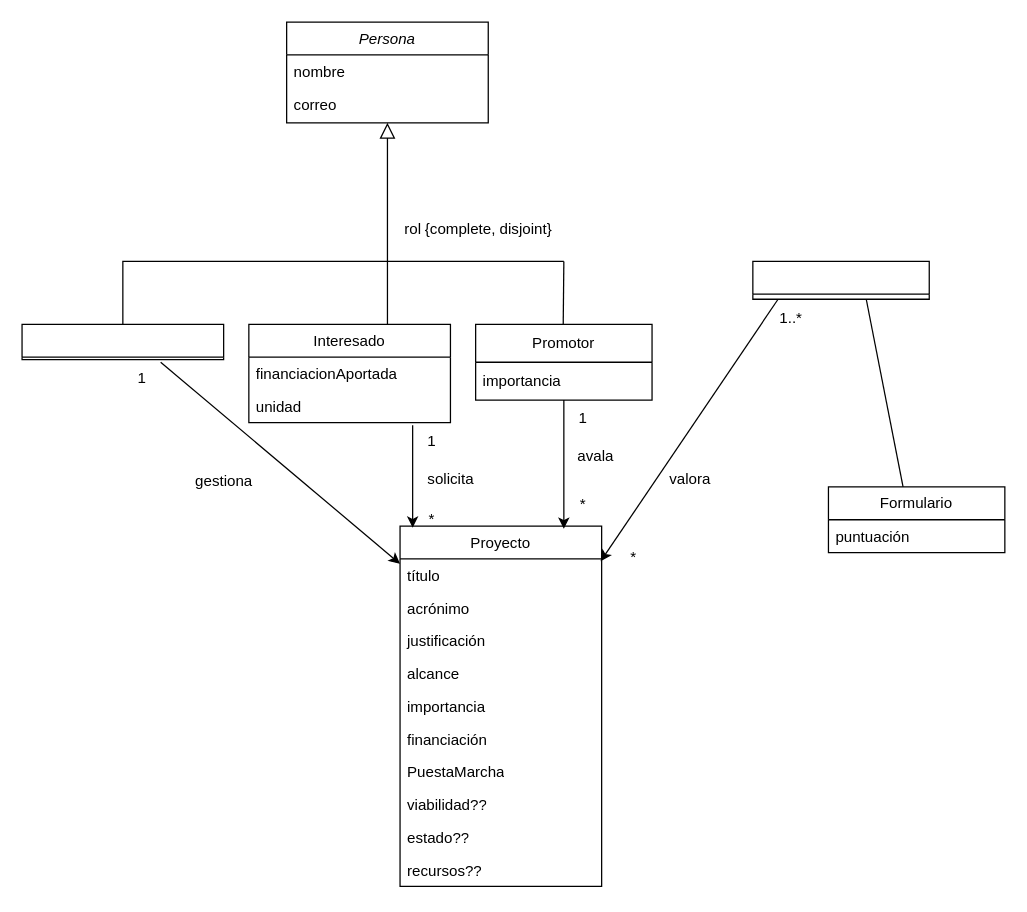
This 1027x912 diagram has some shape labels left out. The centre of each missing label's shape, as x and y in pixels:
"CIO" belongs at pixel 122 341.
"OTP" belongs at pixel 840 279.
